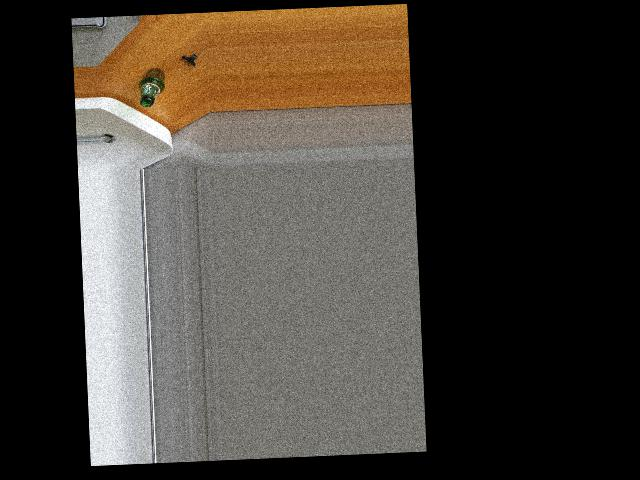beer: (138, 67, 165, 107)
